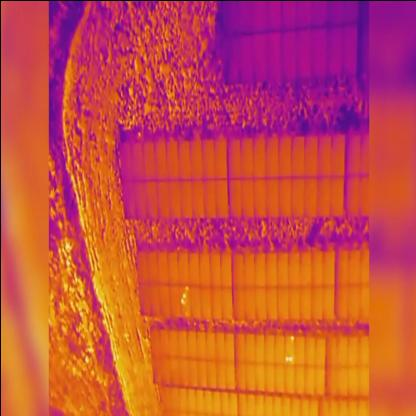panel: (292, 334, 307, 366), (302, 364, 316, 398), (252, 331, 267, 362), (243, 332, 258, 363), (263, 363, 277, 396), (253, 361, 267, 394), (243, 360, 257, 393), (302, 334, 316, 367), (313, 364, 327, 396), (272, 334, 286, 366), (292, 363, 305, 397), (282, 362, 295, 396), (313, 336, 327, 367), (263, 333, 277, 364), (234, 331, 247, 363), (274, 362, 286, 396), (283, 333, 295, 366), (235, 360, 247, 392)
